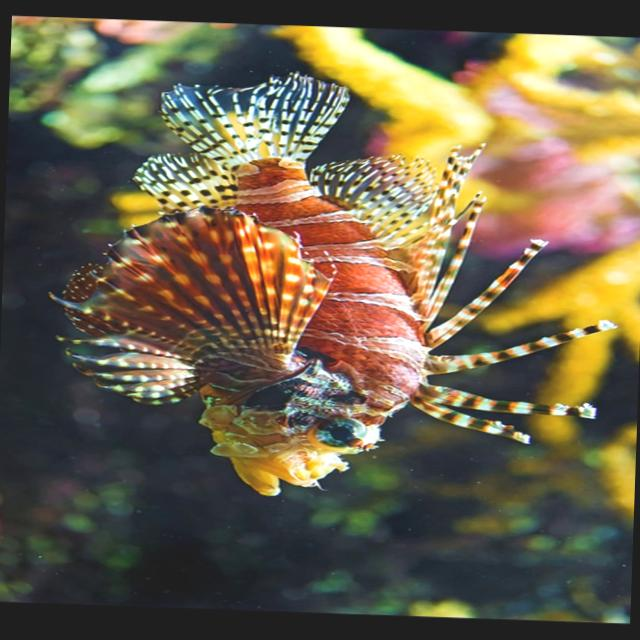Aslan Baligi: (38, 62, 627, 510)
